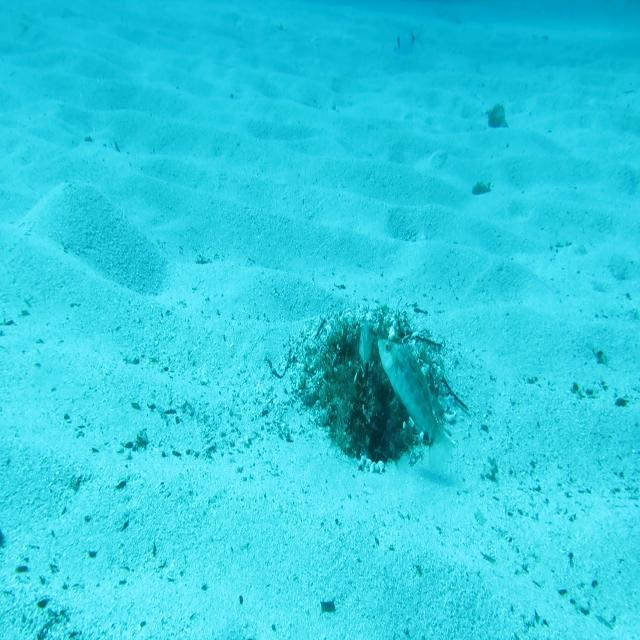LF: (377, 338, 456, 471)
core_nest: (343, 321, 390, 358)
female: (358, 322, 373, 376)
nest: (288, 297, 457, 480)
other_fish: (392, 24, 427, 56)
vegetation: (485, 100, 510, 131), (470, 175, 491, 198), (320, 598, 334, 616)
